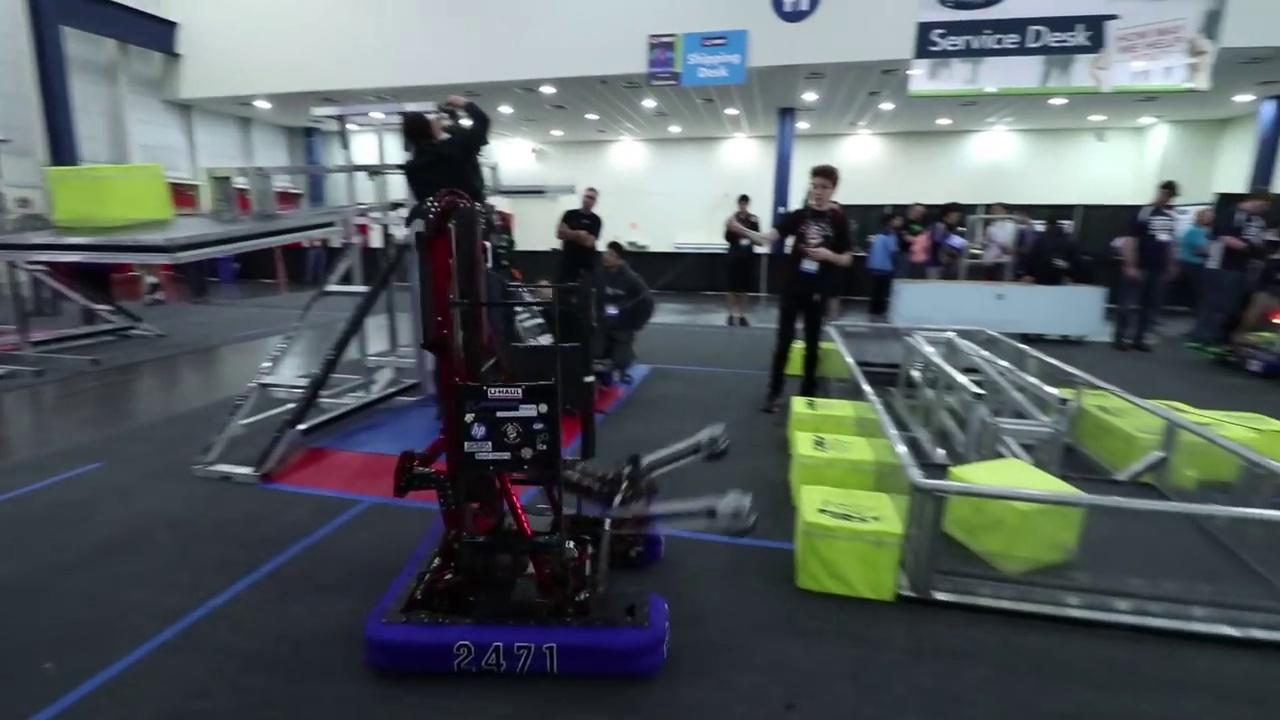robot: (357, 190, 690, 687)
